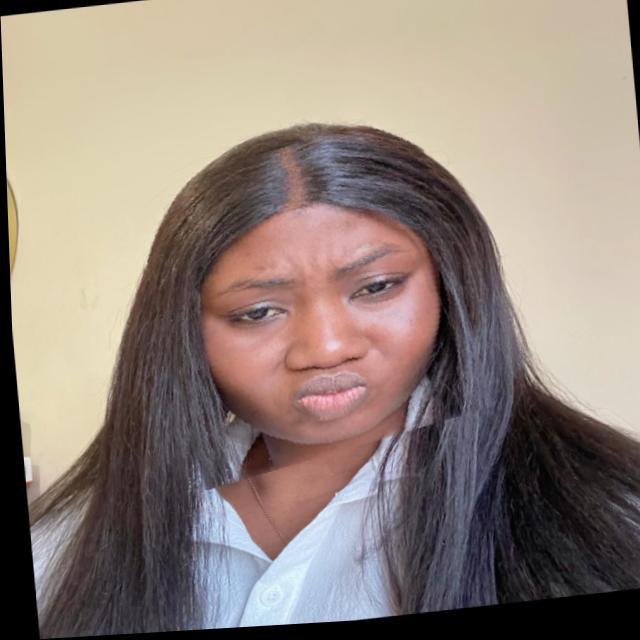sad: (133, 121, 482, 486)
